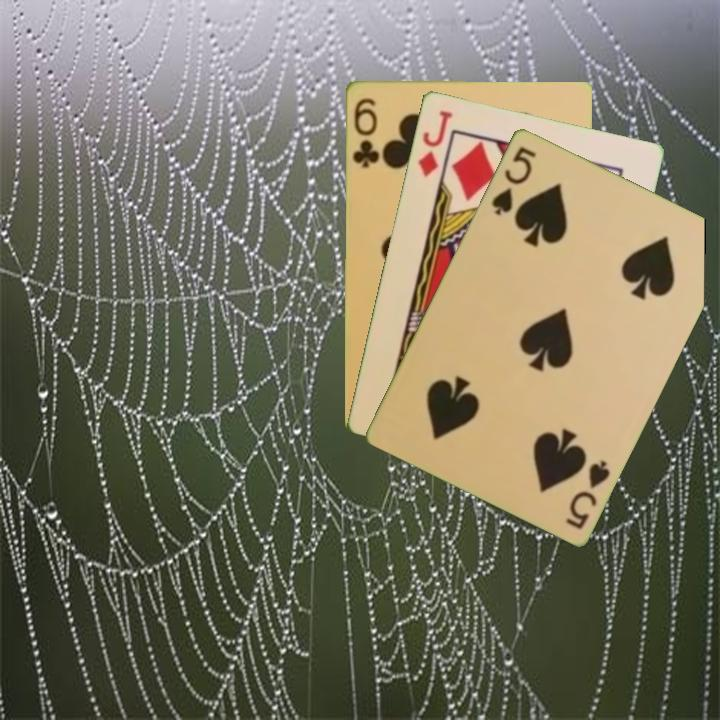5s: (561, 456, 613, 531), (488, 142, 539, 218)
6c: (348, 94, 382, 170)
Jd: (414, 106, 456, 179)
